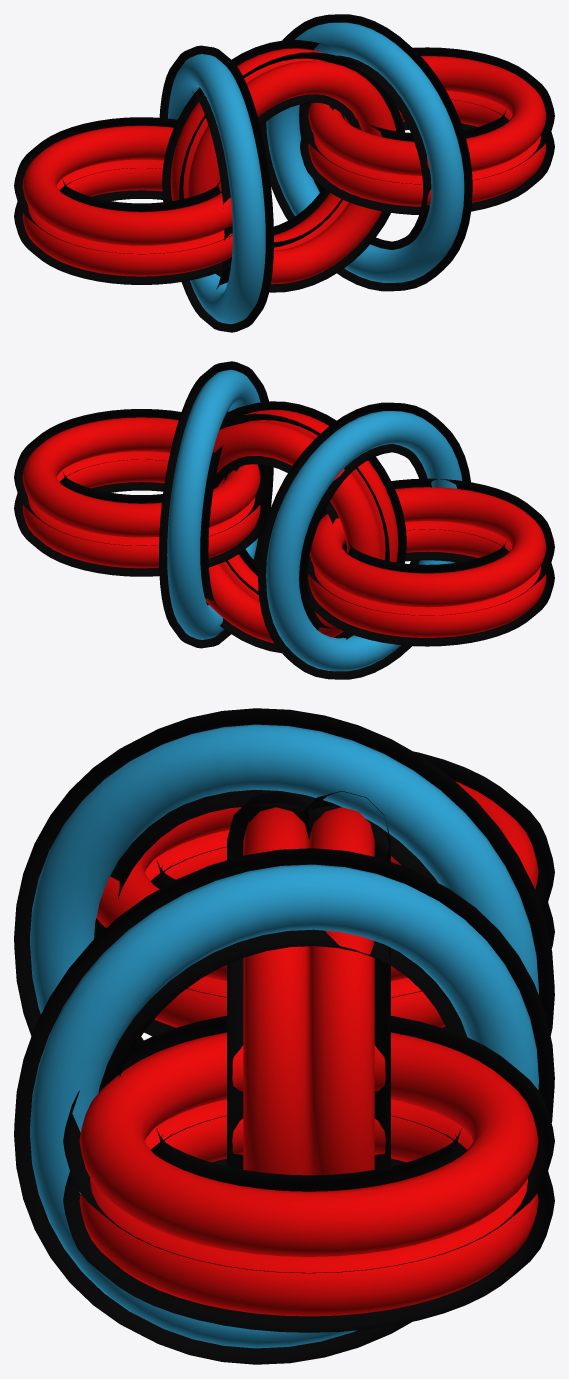
Rendered from bweg_step_04.glb.
The picture shows the model from 3 angles, top to bottom: view 1: azimuth 30°, elevation 25°; view 2: azimuth 150°, elevation 25°; view 3: azimuth 270°, elevation 25°; orthographic projection. The views are drawn at different scales.
Visible parts, largest first — view 1: Torus.011, Torus.010, Torus.006, Torus.001, Torus.009, Torus.007, Torus.008, Torus; view 2: Torus.010, Torus.006, Torus.009, Torus.011, Torus.007, Torus.008, Torus, Torus.001; view 3: Torus.011, Torus.009, Torus.010, Torus.008, Torus.001, Torus, Torus.006, Torus.007.
Boxes of the visible parts, bbox=[...] form: Torus.011: bbox=[260, 14, 472, 291]; Torus.010: bbox=[159, 45, 273, 332]; Torus.006: bbox=[14, 117, 232, 254]; Torus.001: bbox=[179, 52, 404, 292]; Torus.009: bbox=[300, 47, 554, 184]; Torus.007: bbox=[14, 159, 232, 284]; Torus.008: bbox=[300, 90, 554, 215]; Torus: bbox=[162, 40, 356, 250]; Torus.010: bbox=[257, 402, 470, 679]; Torus.006: bbox=[306, 478, 554, 615]; Torus.009: bbox=[14, 409, 268, 545]; Torus.011: bbox=[159, 361, 273, 648]; Torus.007: bbox=[303, 521, 554, 646]; Torus.008: bbox=[14, 451, 268, 576]; Torus: bbox=[205, 413, 389, 653]; Torus.001: bbox=[218, 401, 406, 601]; Torus.011: bbox=[14, 848, 554, 1364]; Torus.009: bbox=[63, 1016, 554, 1273]; Torus.010: bbox=[14, 708, 554, 1044]; Torus.008: bbox=[63, 1099, 554, 1332]; Torus.001: bbox=[227, 791, 319, 1175]; Torus: bbox=[298, 791, 390, 1175]; Torus.006: bbox=[94, 751, 554, 997]; Torus.007: bbox=[144, 830, 554, 1036].
Bounding box in the file's own units: 6.88 × 3.4 × 3.3.
